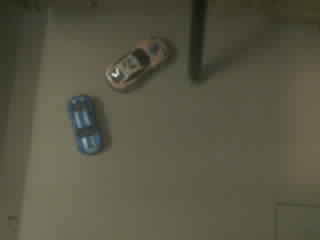Car: (105, 38, 168, 91), (67, 94, 102, 154), (106, 79, 121, 80)
